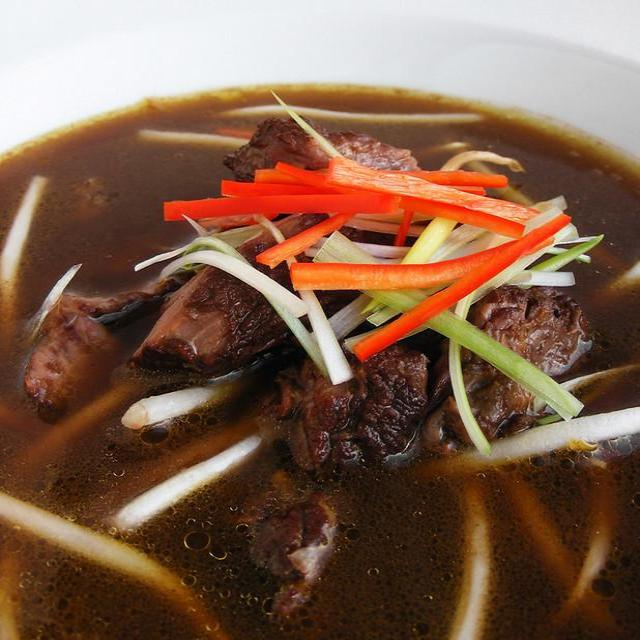Rawon: (0, 128, 640, 634)
